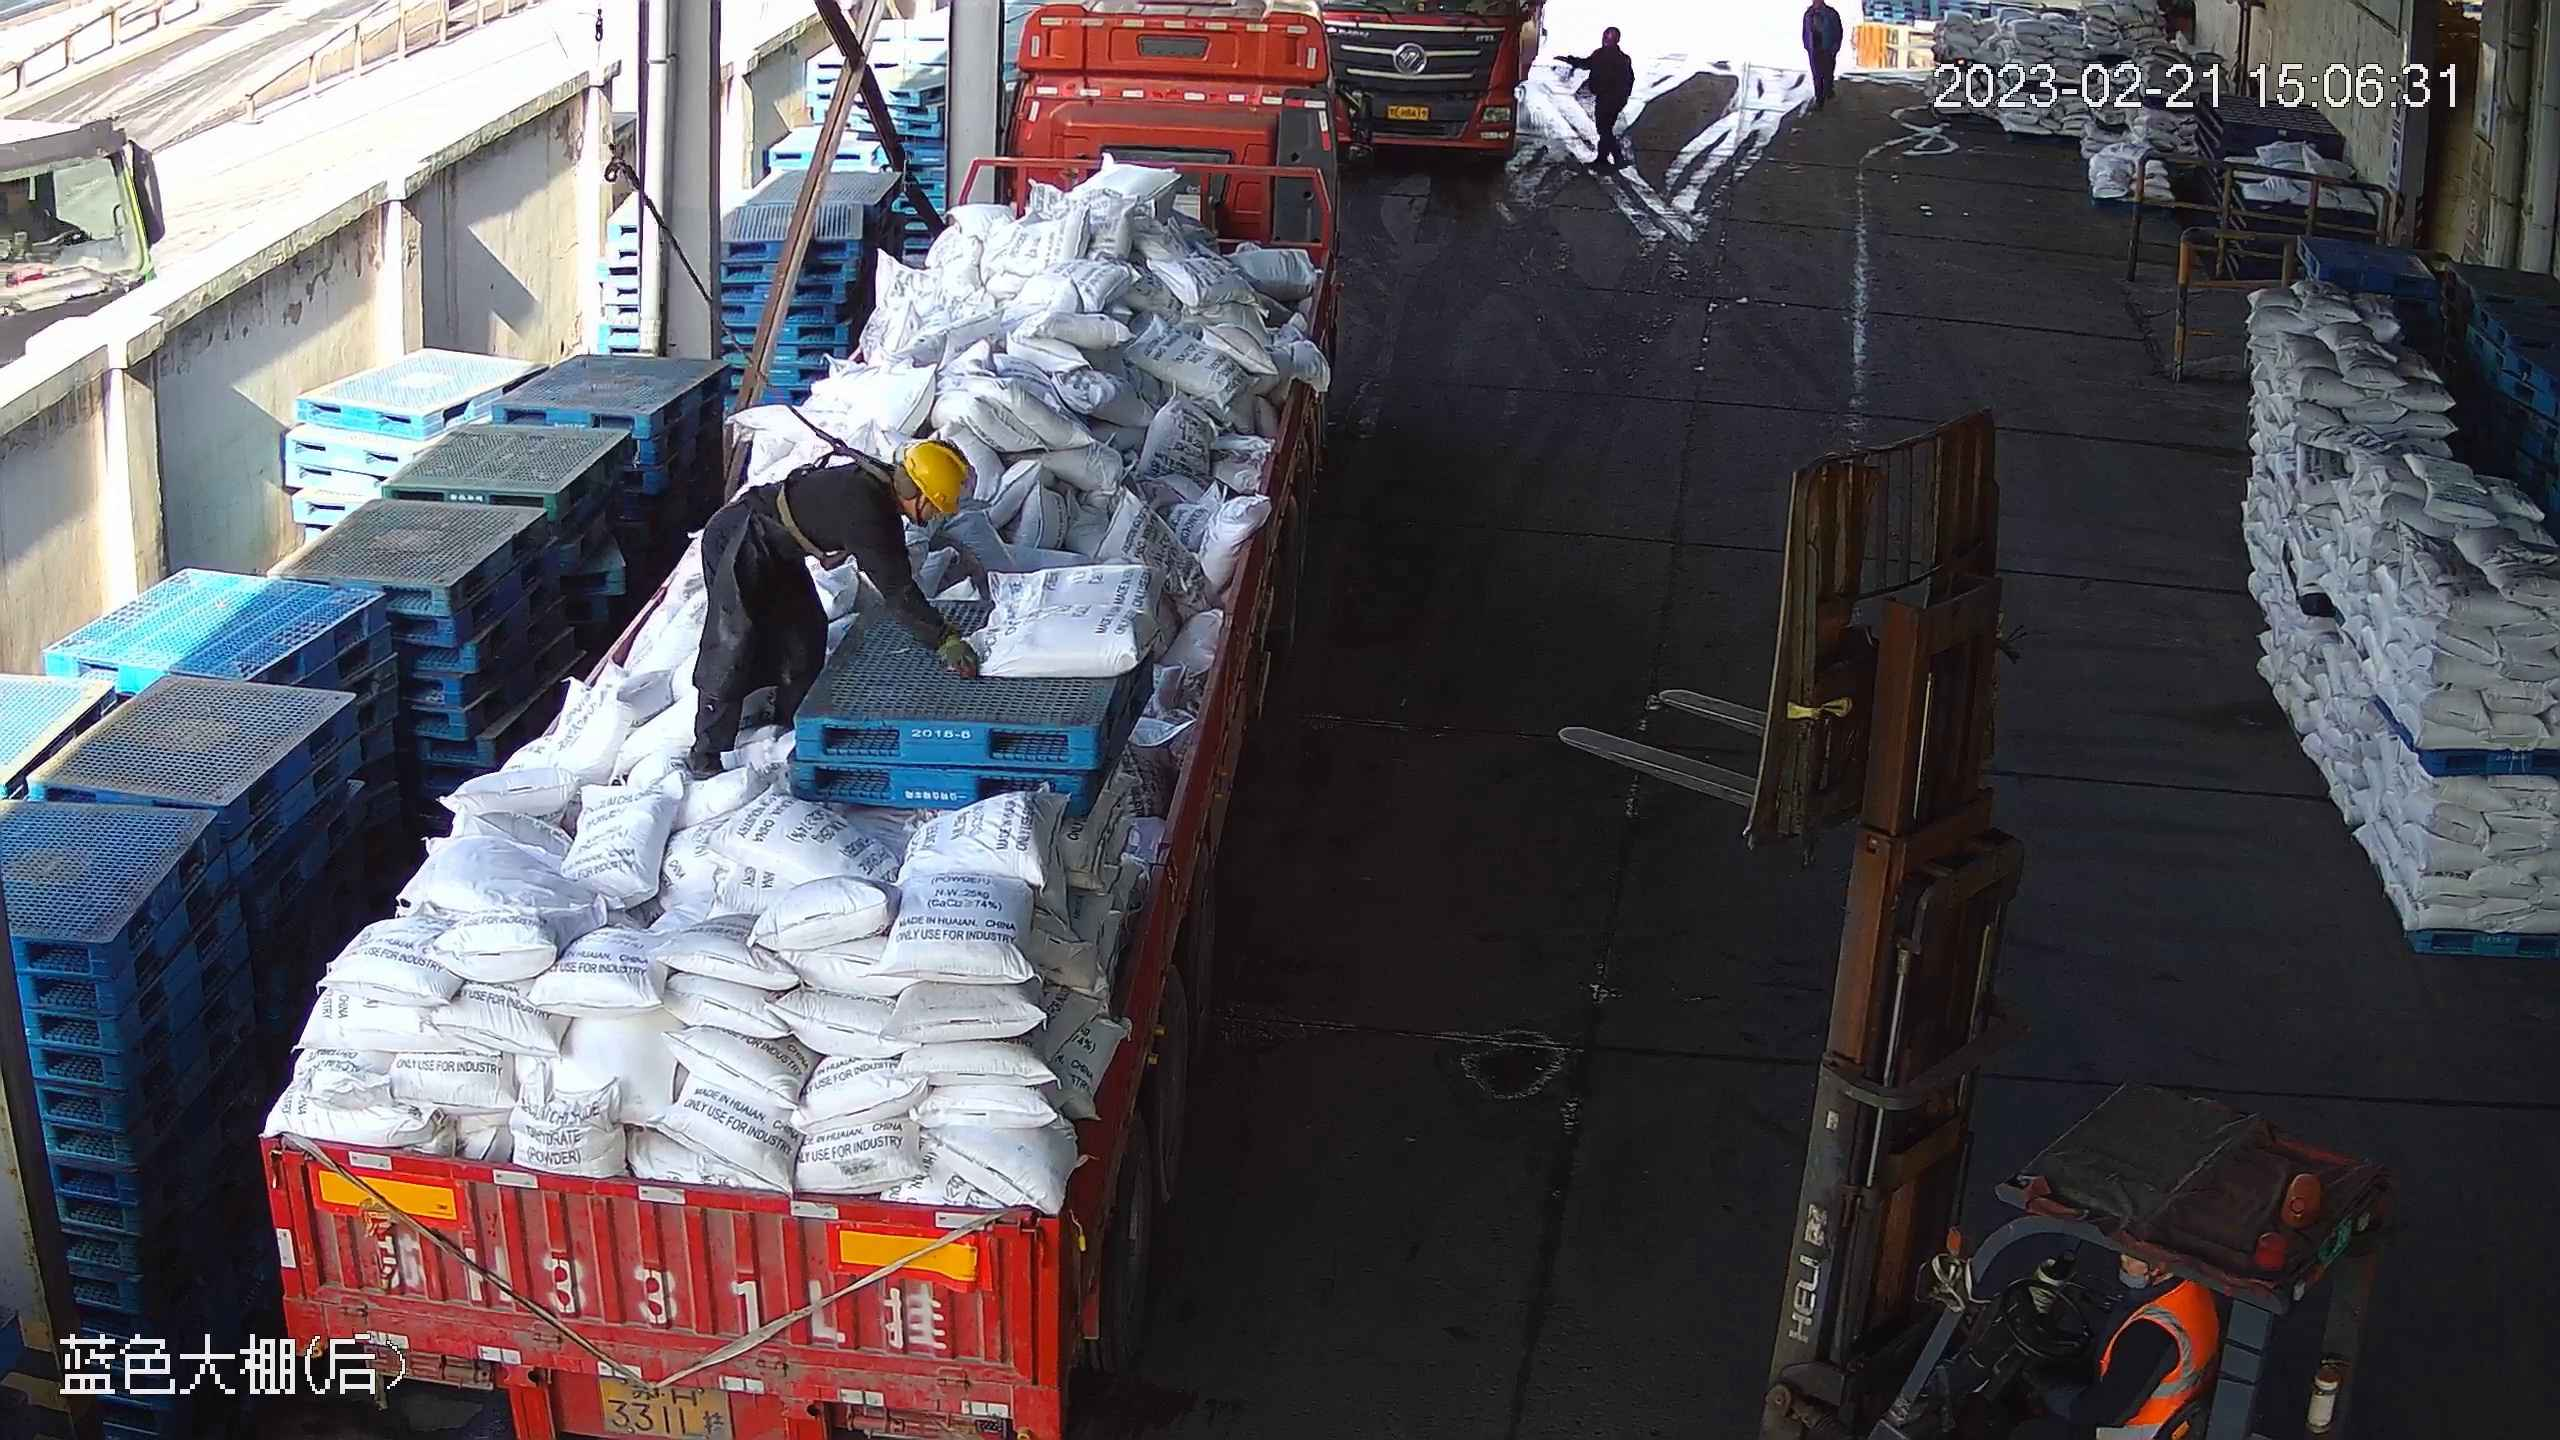belt: (773, 425, 886, 571)
head: (828, 440, 966, 566)
helmet: (905, 439, 969, 523), (1603, 25, 1621, 39)
people: (681, 435, 981, 789), (1554, 23, 1635, 167), (1793, 1, 1844, 108)
truck: (251, 1, 1345, 1440), (1332, 1, 1547, 176)
